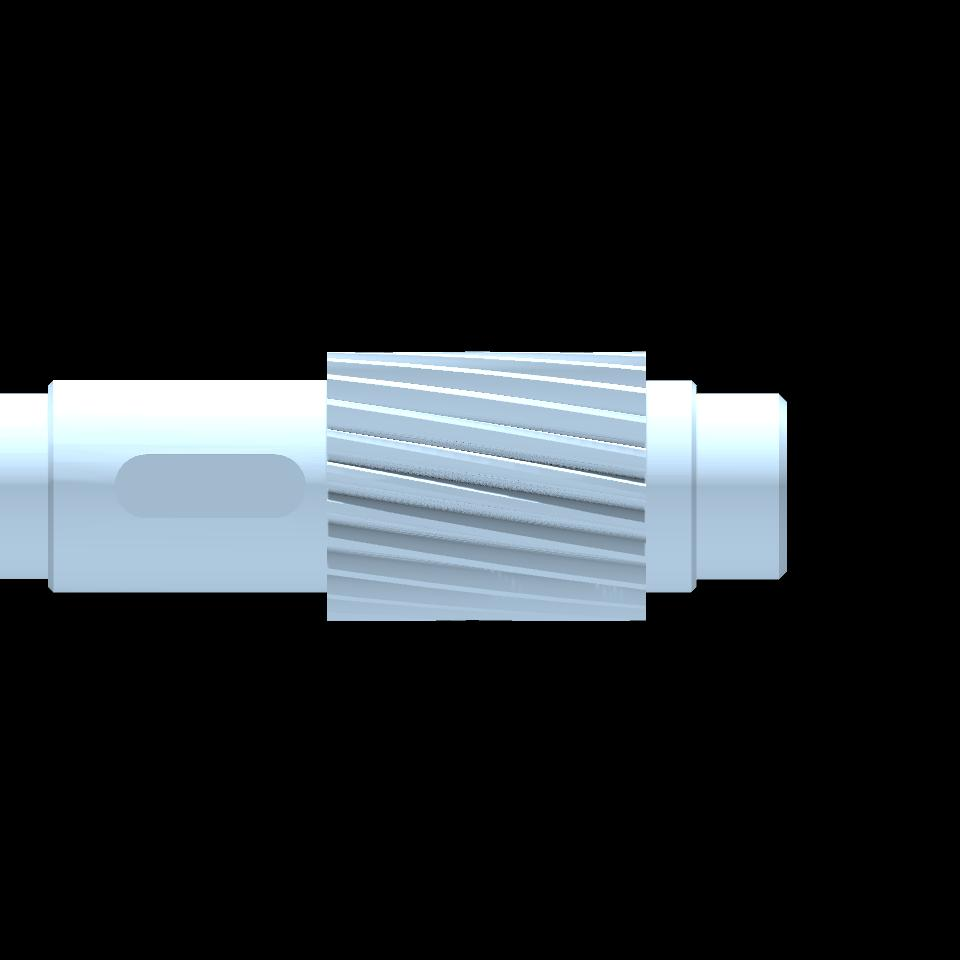Helical: (327, 351, 648, 622)
